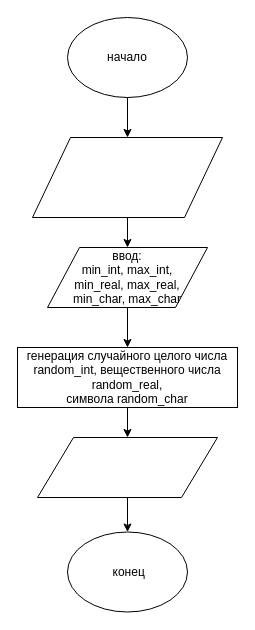
Image size: 255x630. Some labels were removed from this diagram. Here are the shapes that lost their labels. From the top down, the box of each, then its label:
(32, 136, 222, 218): вывод: введите диапазоны для целого числа, вещественного числа, символа
(36, 436, 218, 498): вывод: random_int, random_real, random_char
